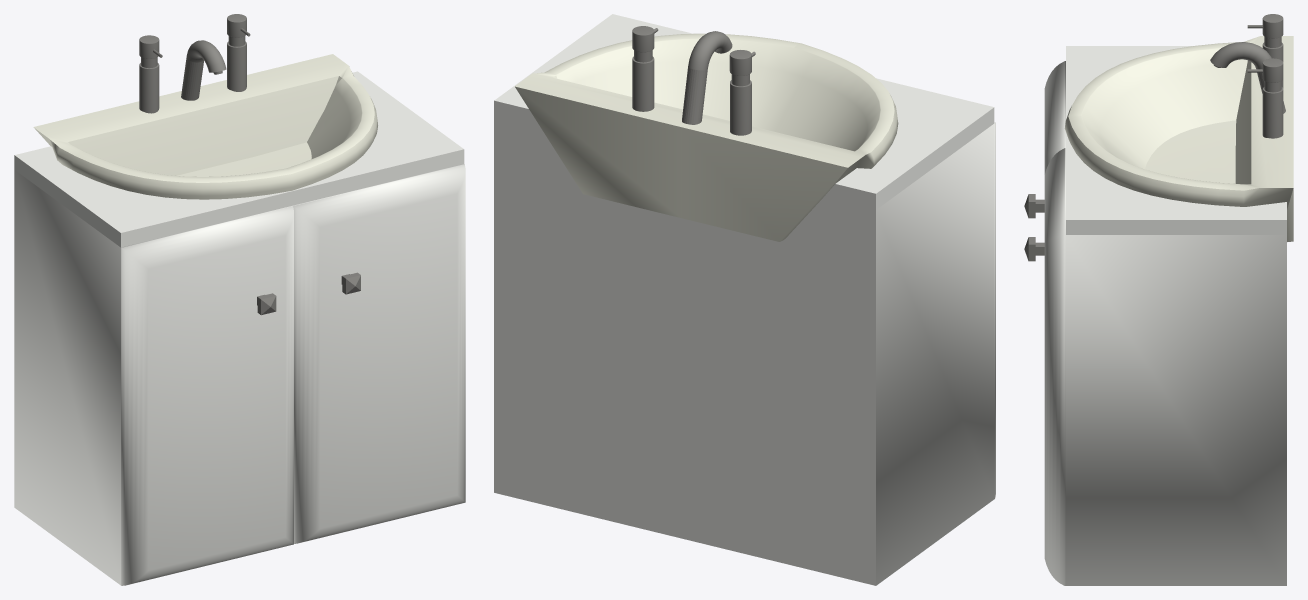
File: BathroomSink.FBX
The picture shows the model from 3 angles, left to right: view 1: azimuth 30°, elevation 25°; view 2: azimuth 150°, elevation 25°; view 3: azimuth 270°, elevation 25°; orthographic projection. The views are drawn at different scales.
Visible parts, largest first — view 1: Box001, Box006, Cylinder005, Cylinder001, Cylinder003; view 2: Box001, Box006, Cylinder005, Cylinder003, Cylinder001; view 3: Box001, Box006, Cylinder003, Cylinder005, Cylinder001, Box004, Box005.
Part boxes in pixels (x1,y1,x2,y2): Box001: [14, 71, 465, 585]; Box006: [33, 54, 377, 199]; Cylinder005: [181, 40, 226, 100]; Cylinder001: [139, 35, 159, 113]; Cylinder003: [227, 14, 246, 91]; Box001: [494, 14, 995, 585]; Box006: [515, 33, 898, 241]; Cylinder005: [682, 31, 732, 124]; Cylinder003: [632, 26, 654, 111]; Cylinder001: [729, 50, 751, 135]; Box001: [1044, 46, 1286, 585]; Box006: [1064, 36, 1293, 241]; Cylinder003: [1262, 58, 1283, 138]; Cylinder005: [1210, 42, 1285, 113]; Cylinder001: [1262, 14, 1283, 87]; Box004: [1024, 237, 1044, 261]; Box005: [1024, 194, 1044, 218].
Bounding box in the file's own units: 40.37 × 49.64 × 26.38.
Materials: 3 (3 with a texture image).
